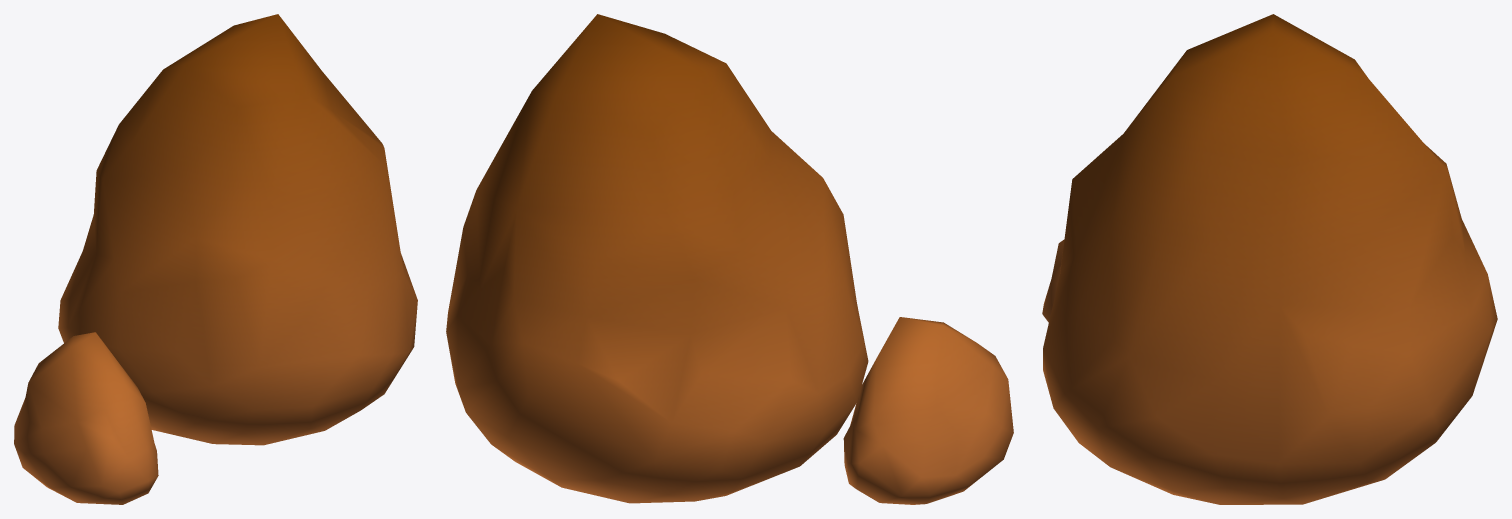
File: MudStone.fbx
3 views of the same model, side by side, from view 1: azimuth 30°, elevation 25°; view 2: azimuth 150°, elevation 25°; view 3: azimuth 270°, elevation 25° (orthographic). The views are drawn at different scales.
Parts seen in each view (by area): view 1: MUDSTONE.001; view 2: MUDSTONE.001; view 3: MUDSTONE.001.
Boxes of the visible parts, x1=… form: MUDSTONE.001: x1=14, y1=14, x2=417, y2=504; MUDSTONE.001: x1=446, y1=14, x2=1013, y2=504; MUDSTONE.001: x1=1042, y1=14, x2=1497, y2=504.
Bounding box in the file's own units: 189 × 175 × 154.
Materials: 1 (1 with a texture image).
